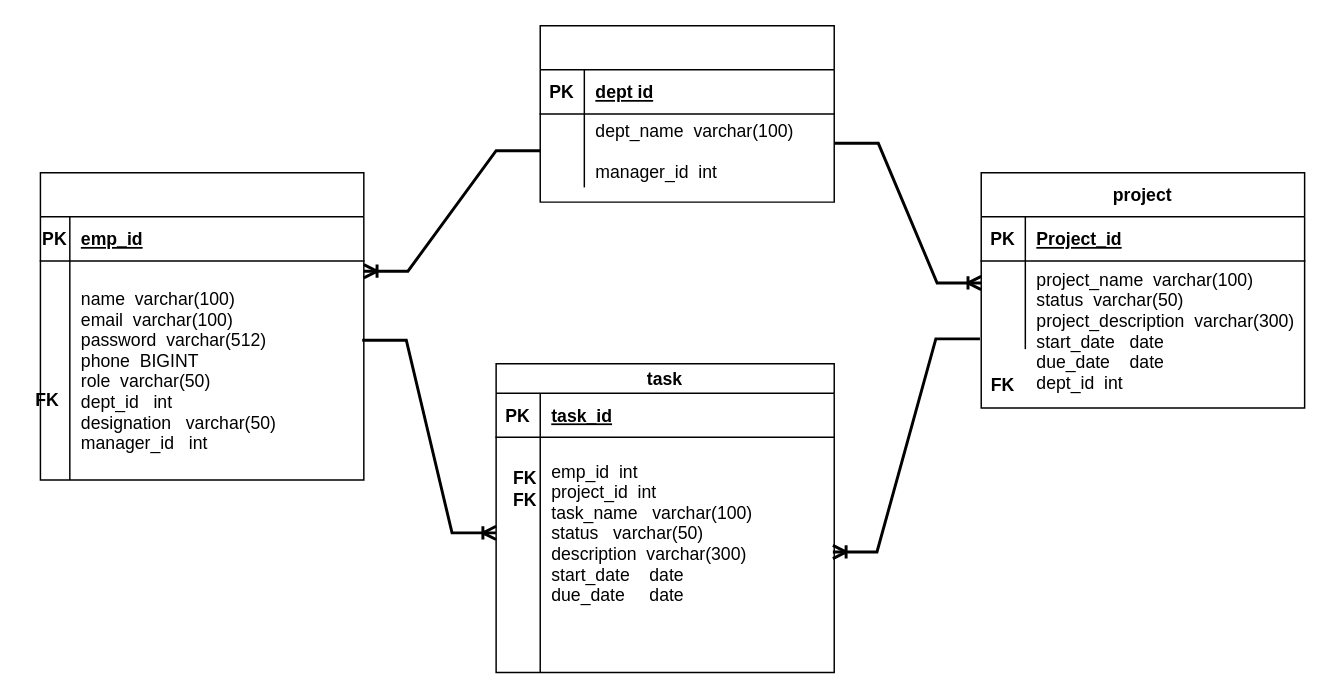
Image size: 1330x698. Some labels were removed from this diagram. The box of each missing label's shape, as (x1, y1, x2, y2) in pixels:
department: (539, 24, 834, 202)
employee: (39, 171, 364, 480)
